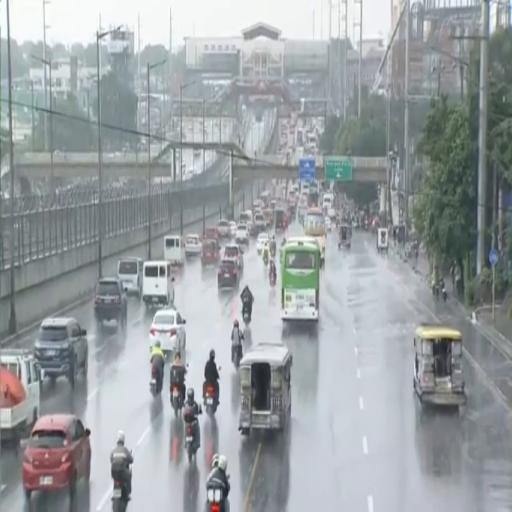bus: (281, 240, 320, 321), (304, 207, 326, 265)
car: (23, 414, 91, 499), (34, 317, 88, 387), (95, 278, 127, 331), (150, 309, 186, 355), (118, 258, 143, 298), (218, 260, 239, 290), (223, 244, 243, 270), (185, 234, 201, 257), (236, 223, 249, 245), (256, 233, 269, 253), (254, 212, 266, 232), (218, 220, 229, 237), (325, 216, 332, 232), (328, 207, 336, 219), (230, 221, 236, 237)
jeepney: (239, 343, 292, 435), (414, 325, 466, 406), (338, 223, 351, 248)
motorcycle: (111, 478, 128, 511), (185, 420, 198, 462), (207, 487, 229, 511), (204, 383, 217, 418), (171, 383, 183, 417), (150, 366, 162, 396), (232, 343, 242, 370), (242, 301, 251, 324), (441, 284, 447, 302), (432, 283, 439, 298), (263, 250, 269, 266), (270, 272, 276, 286), (270, 244, 275, 259)
truck: (0, 349, 43, 440)
